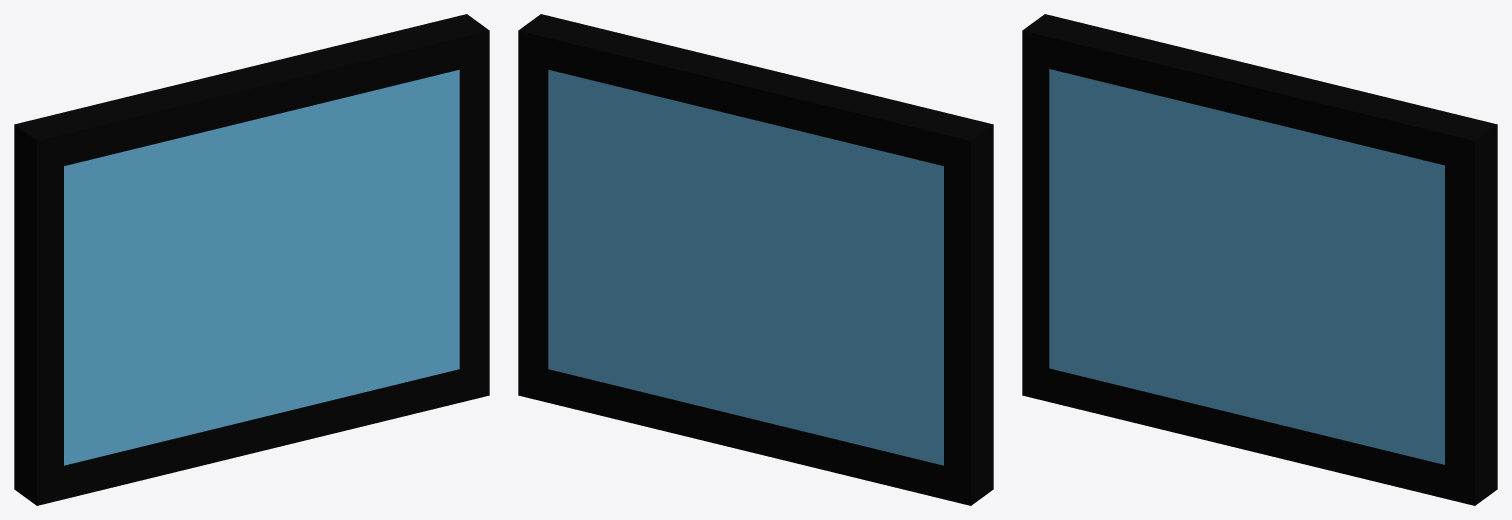
File: ventana.fbx
The picture shows the model from 3 angles, left to right: view 1: azimuth 30°, elevation 25°; view 2: azimuth 150°, elevation 25°; view 3: azimuth 330°, elevation 25°; orthographic projection.
Visible parts, largest first — view 1: Ventana; view 2: Ventana; view 3: Ventana.
Part boxes in pixels (x1=…): Ventana: x1=14, y1=14, x2=489, y2=505; Ventana: x1=518, y1=14, x2=993, y2=505; Ventana: x1=1022, y1=14, x2=1497, y2=505.
Size of the model in its own units: 1306 by 1006 by 114.
